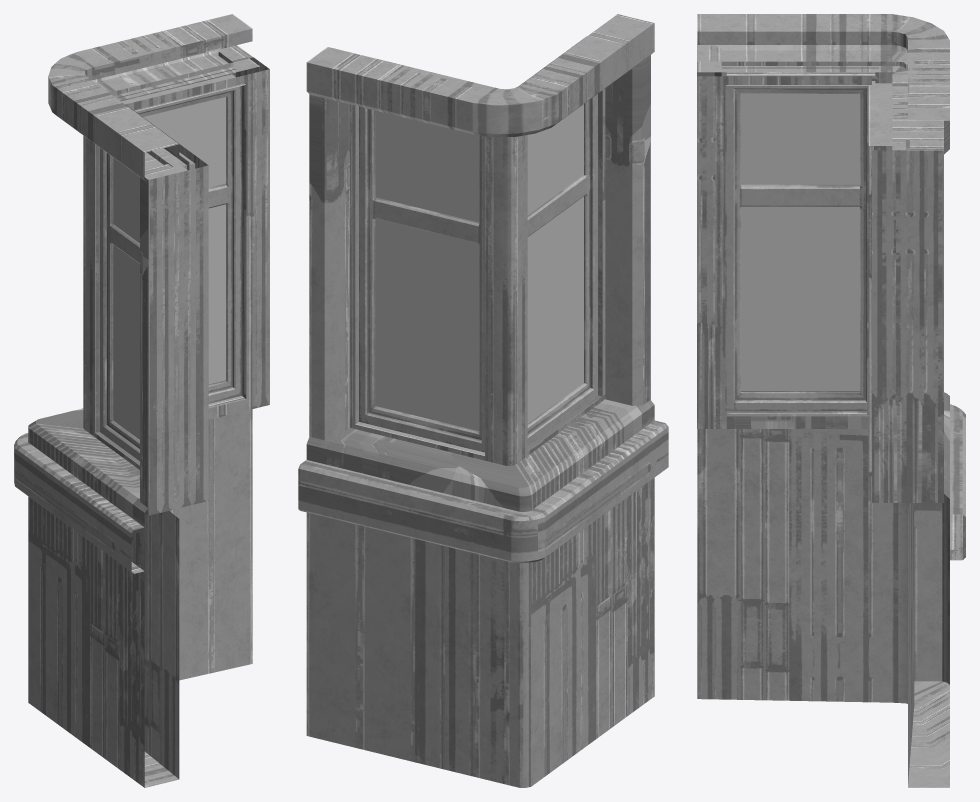
File: SM_Building03_Wall03R.fbx
3 renders of one model, left to right at view 1: azimuth 30°, elevation 25°; view 2: azimuth 150°, elevation 25°; view 3: azimuth 270°, elevation 25°, orthographic. The views are drawn at different scales.
Visible parts, largest first — view 1: SM_Building03_Wall03R_LOD0; view 2: SM_Building03_Wall03R_LOD0; view 3: SM_Building03_Wall03R_LOD0.
Part boxes in pixels (box(x1,y1,x2,y2)): SM_Building03_Wall03R_LOD0: box(14, 14, 269, 787); SM_Building03_Wall03R_LOD0: box(298, 14, 668, 787); SM_Building03_Wall03R_LOD0: box(697, 14, 965, 787).
Size of the model in its own units: 128 by 128 by 350.
